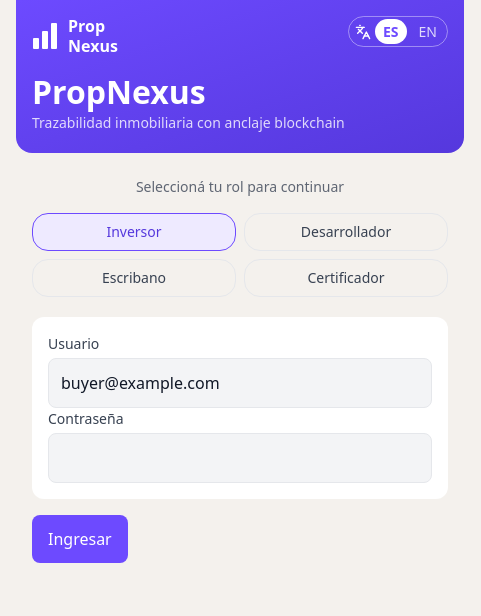
LoginScreen › credenciales inválidas (401): muestra el error, no redirige y no guarda sesión
The width and height of the screenshot is (481, 616).
Click the button "Ingresar".
click(80, 539)  # box [32,515,128,563]
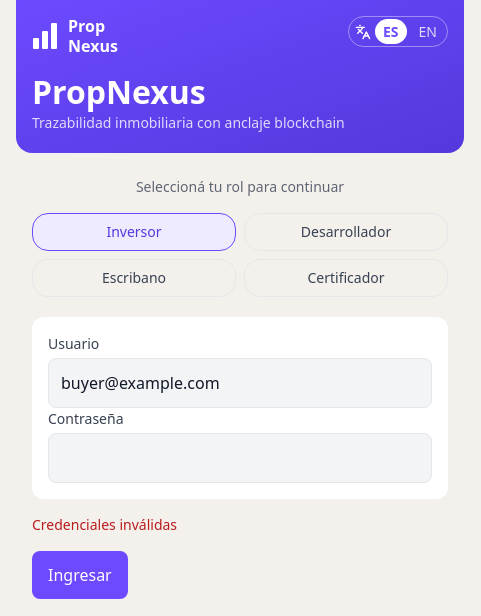
Check: the text "Credenciales inválidas" is shown, box [32,515,177,534]
